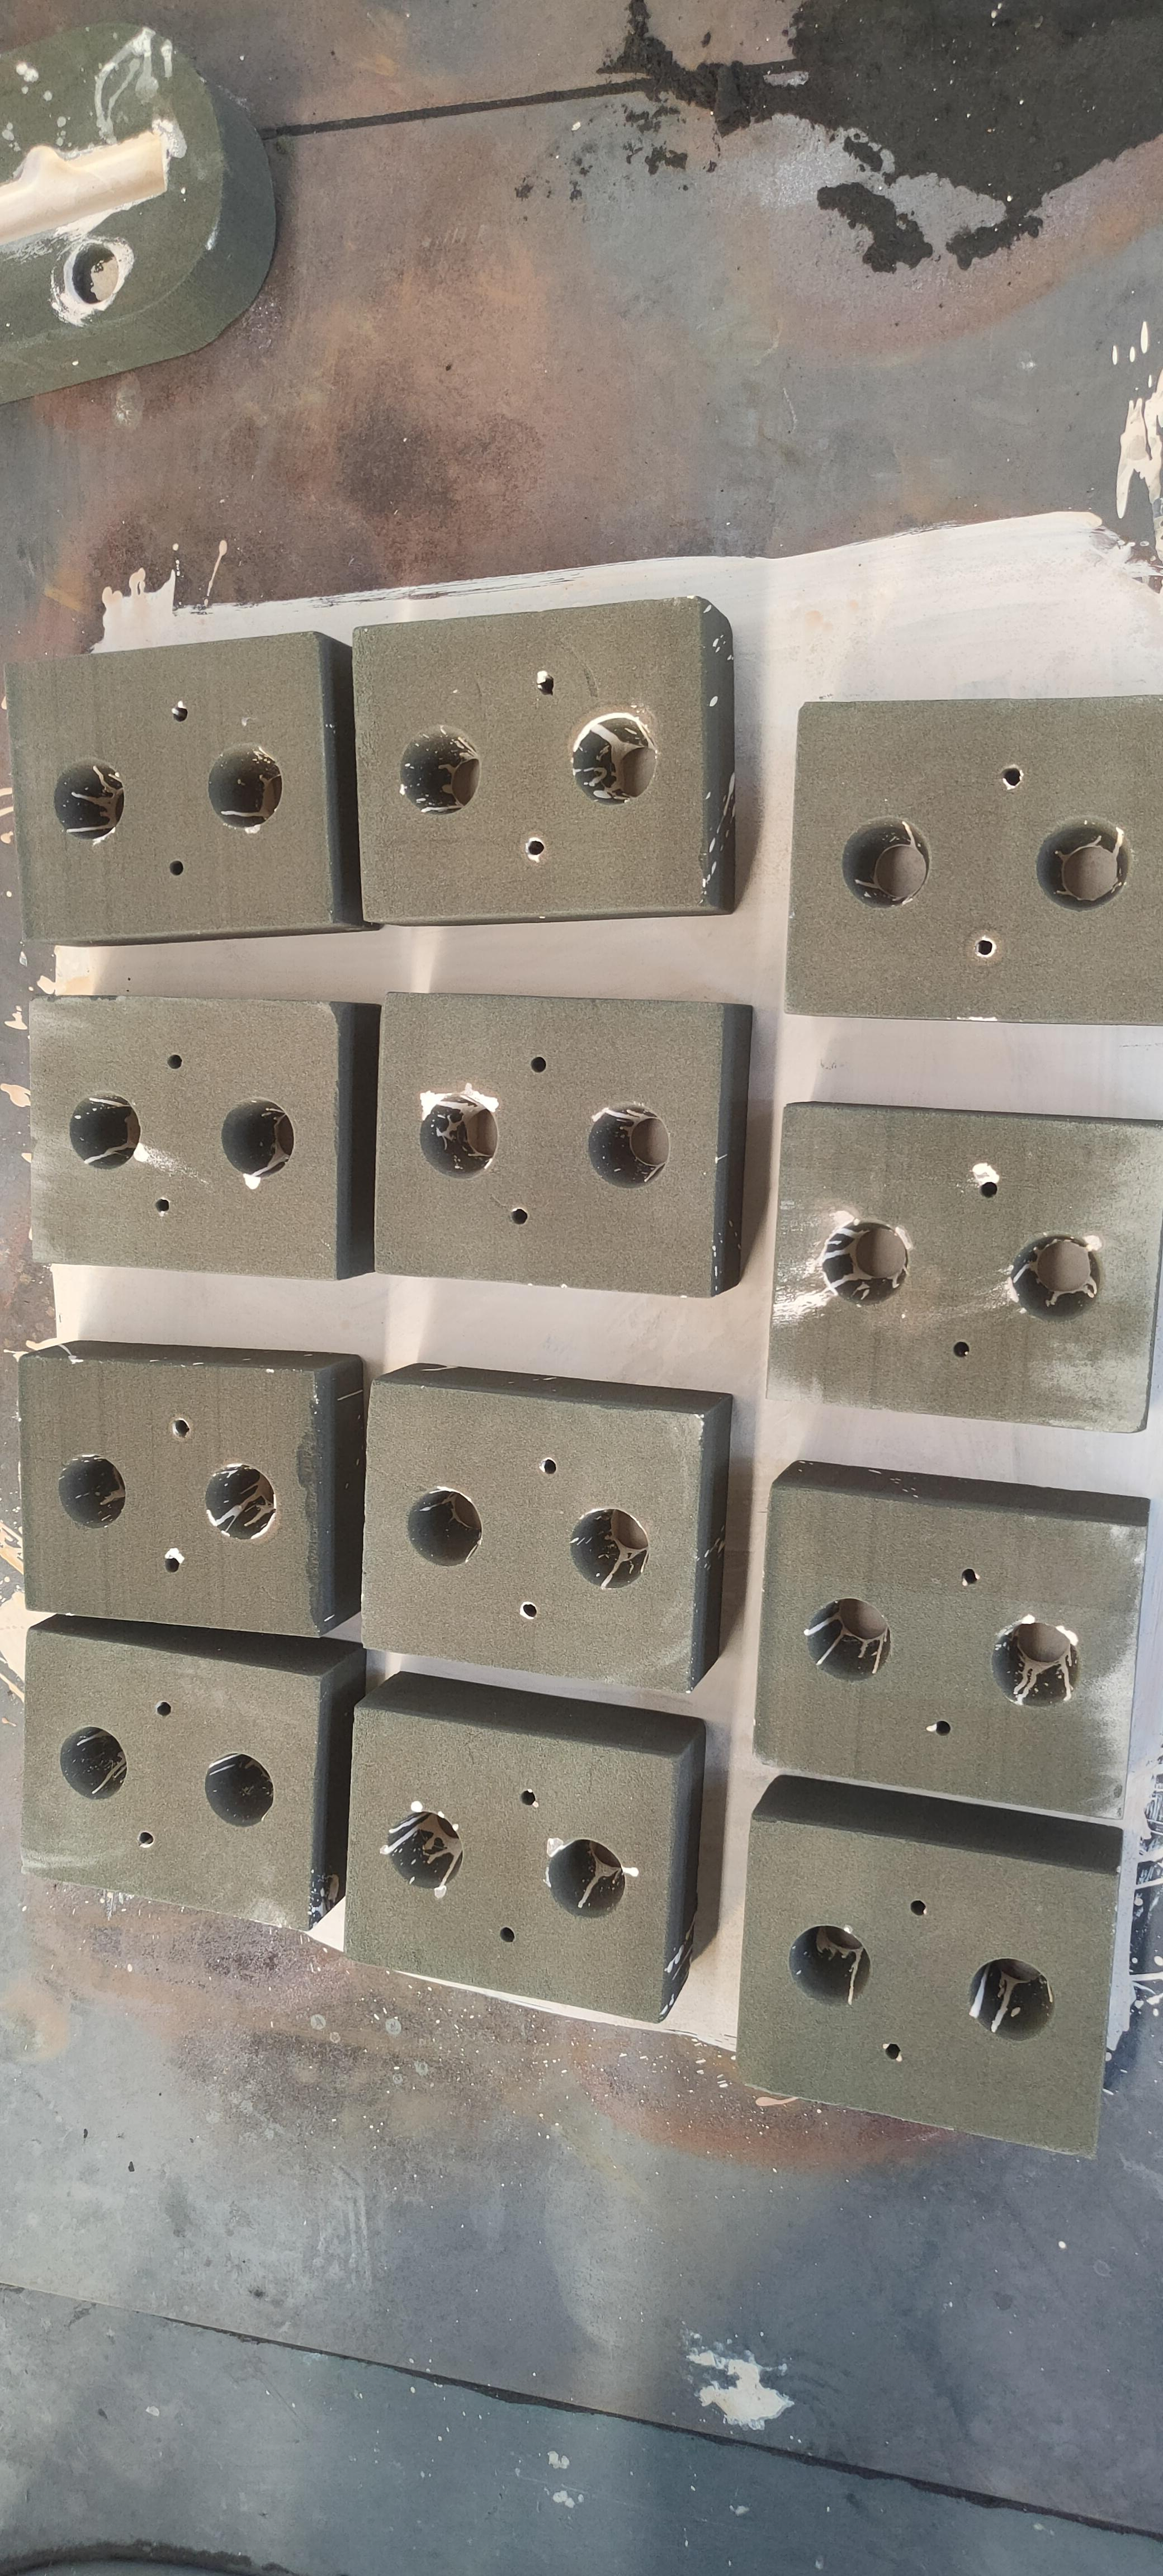pouring hole: (1035, 813, 1133, 910), (565, 706, 659, 803), (841, 813, 931, 910), (989, 1620, 1081, 1710), (1010, 1232, 1104, 1319), (823, 1219, 908, 1308), (805, 1598, 895, 1682), (399, 723, 481, 815), (417, 1093, 499, 1181), (969, 1958, 1053, 2040), (590, 1102, 669, 1189), (788, 1925, 872, 2006), (209, 741, 284, 830), (570, 1510, 650, 1589), (547, 1838, 626, 1917), (407, 1485, 483, 1567), (54, 757, 125, 841), (388, 1812, 463, 1889), (222, 1097, 296, 1176), (69, 1091, 141, 1170), (205, 1464, 274, 1541), (59, 1452, 126, 1529), (205, 1753, 273, 1827), (59, 1728, 126, 1799)
